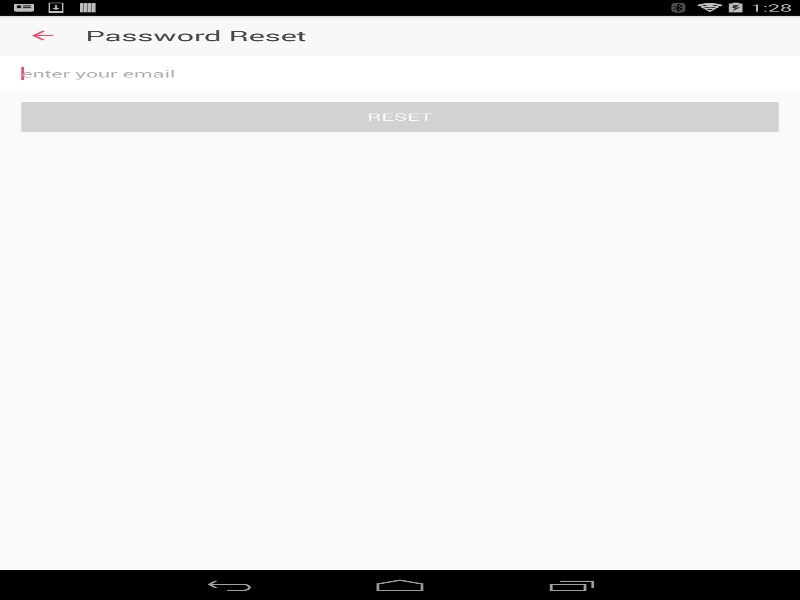Button: (21, 101, 778, 131), (0, 15, 85, 55)
Input: (0, 55, 800, 91)
